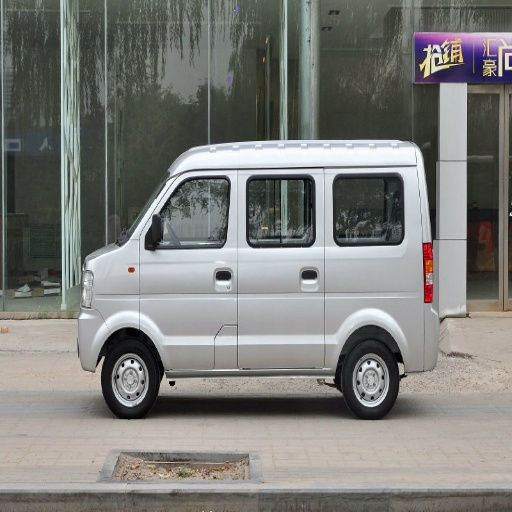back_left_door: (237, 172, 320, 365)
trunk: (317, 252, 436, 371)
